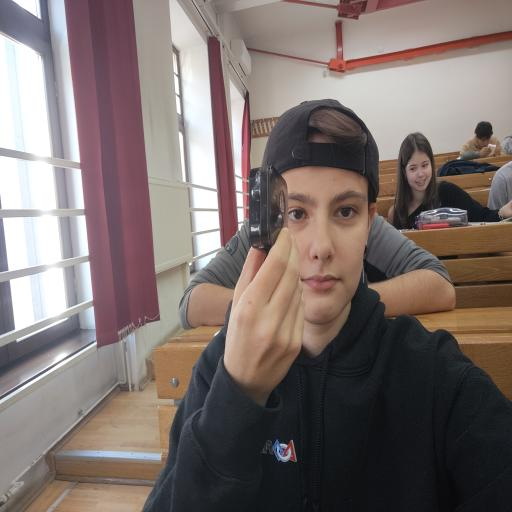CASTI: (246, 160, 289, 257)
